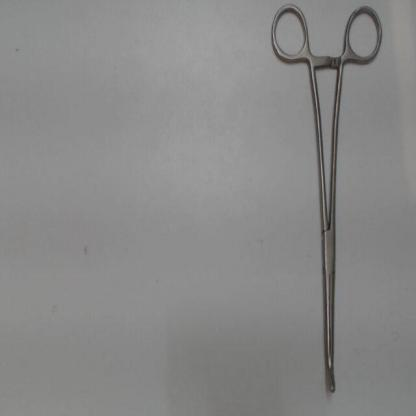Lahey Forceps: (265, 2, 387, 400)
